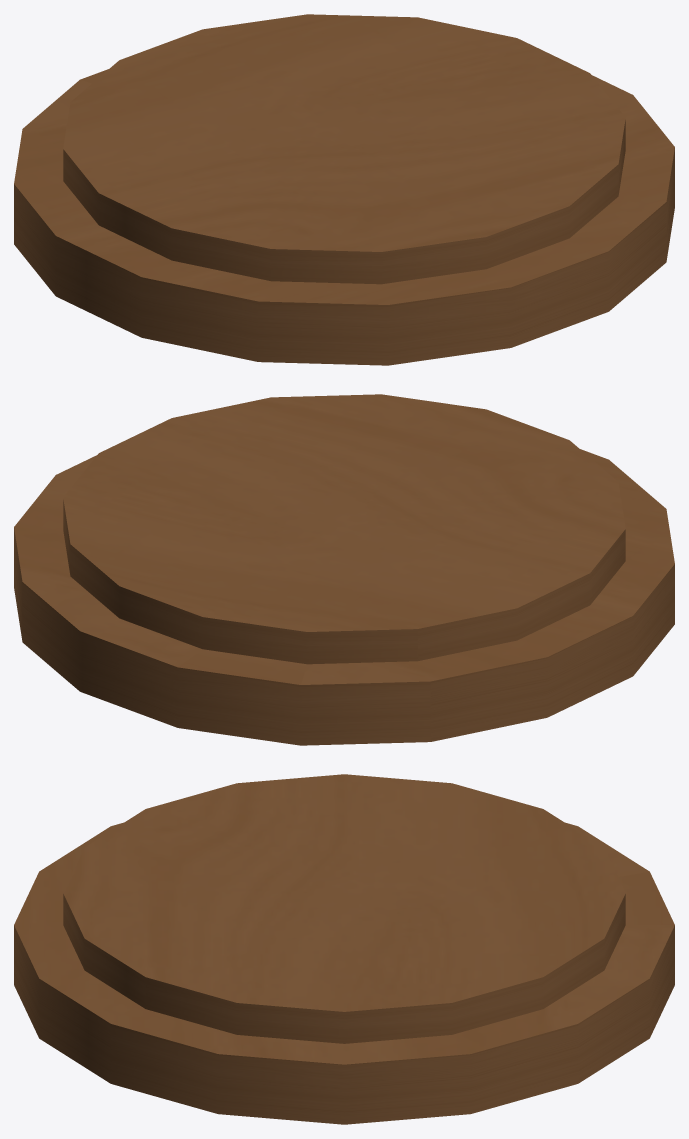
The model's file is pedestal.obj.
3 views of the same model, one above another, from view 1: azimuth 30°, elevation 25°; view 2: azimuth 150°, elevation 25°; view 3: azimuth 270°, elevation 25° (orthographic).
Parts seen in each view (by area): view 1: Cylinder; view 2: Cylinder; view 3: Cylinder.
Boxes of the visible parts, x1,y1,x2,y2 form: Cylinder: (14, 14, 674, 365); Cylinder: (14, 394, 674, 745); Cylinder: (14, 774, 674, 1124).
Size of the model in its own units: 8.28 by 1.27 by 8.28.
1 material, 1 textured.
